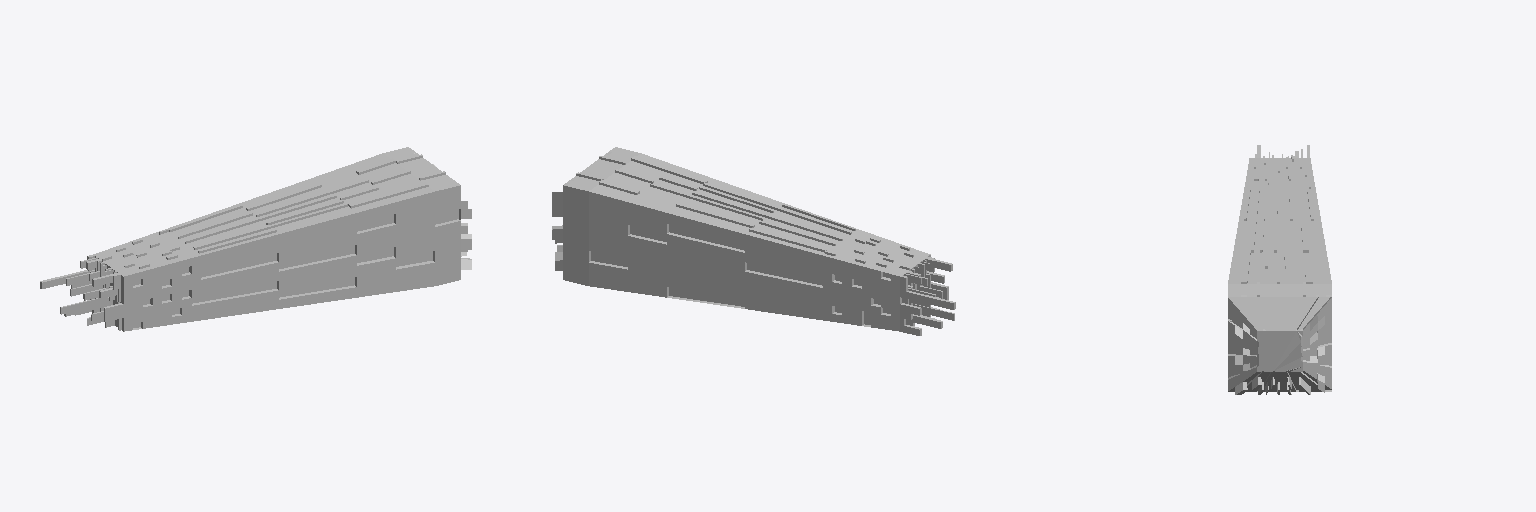
File: guardian_body.obj
3 renders of one model, left to right at view 1: azimuth 30°, elevation 25°; view 2: azimuth 150°, elevation 25°; view 3: azimuth 270°, elevation 25°, orthographic.
Parts seen in each view (by area): view 1: body_Cube.001; view 2: body_Cube.001; view 3: body_Cube.001.
Part boxes in pixels (x1,y1,x2,y2): body_Cube.001: (40, 147, 471, 331); body_Cube.001: (552, 147, 955, 335); body_Cube.001: (1228, 145, 1331, 394).
Bounding box in the file's own units: 6.46 × 1.49 × 1.46.